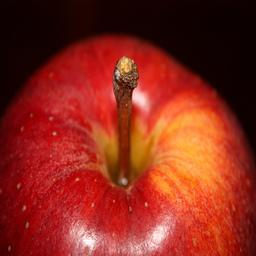apple: (0, 32, 255, 252)
